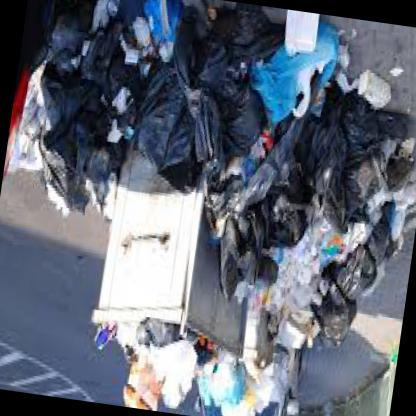Garbage: (156, 0, 332, 203), (4, 0, 182, 193), (252, 84, 407, 278), (244, 140, 376, 348), (204, 140, 302, 298), (234, 16, 350, 117), (38, 84, 106, 214)
